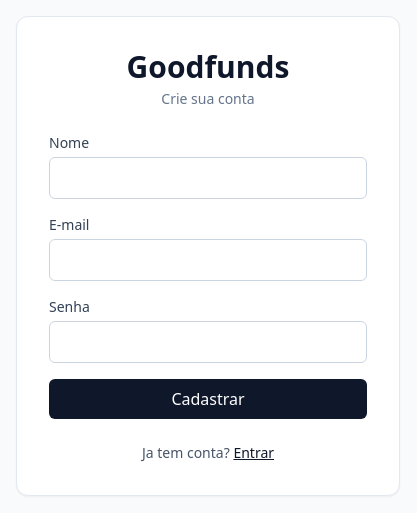
Test: RegisterPage › cria a conta e redireciona para /login com mensagem de sucesso
Type "Fulano" into the field labelled "Nome". click: (208, 178)
box: [49,157,367,199]
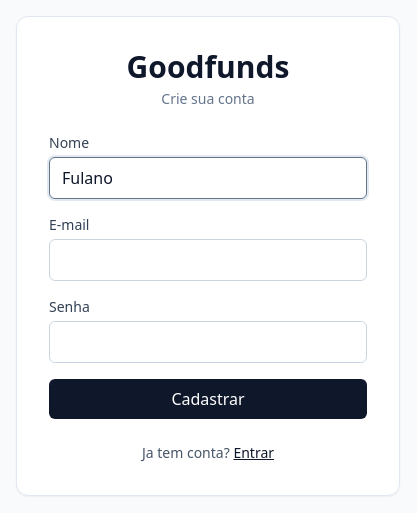
Type "novo@b.com" into the field labelled "E-mail". click: (208, 260)
box: [49,239,367,281]
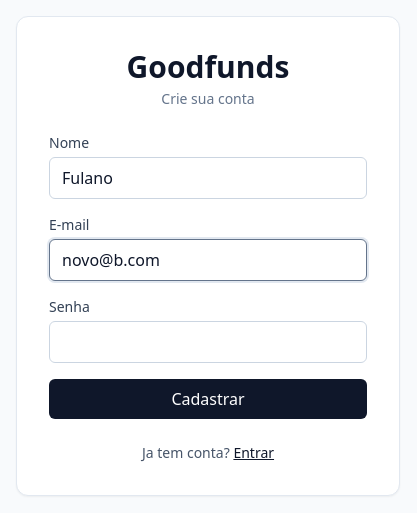
Type "segredo12" into the password field labelled "Senha". click: (208, 342)
box: [49,321,367,363]
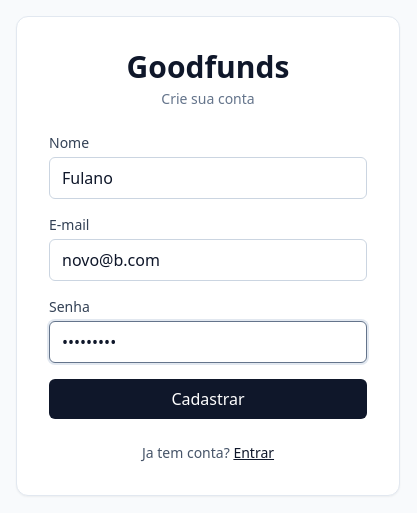
Click the button "Cadastrar". click: (208, 399)
box: [49,379,367,419]
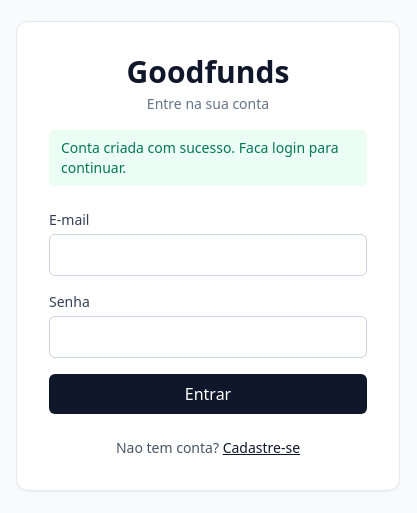
Result: the message "Conta criada com sucesso. Faca login para continuar." is shown at [49,130,367,186]
Result: the message reads "Conta criada com sucesso. Faca login para continuar." at [61,138,338,177]
